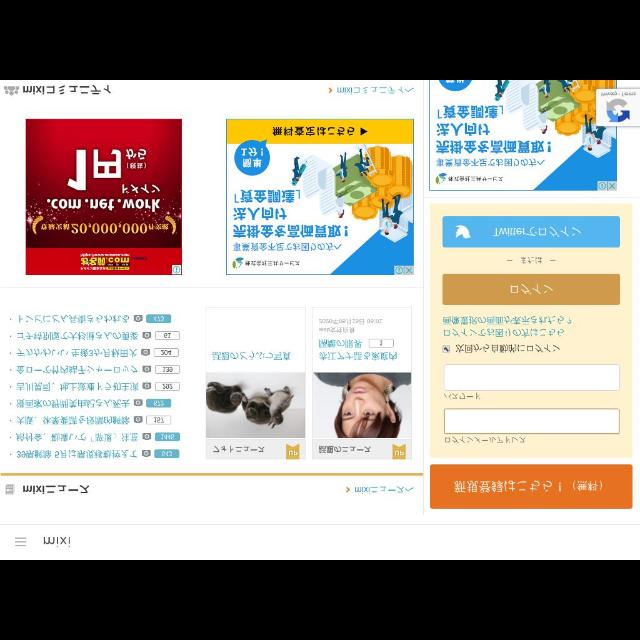checkbox: (443, 346, 449, 352)
icon: (454, 226, 471, 238), (15, 536, 28, 548), (4, 86, 20, 95), (5, 482, 15, 496), (134, 415, 142, 425), (142, 449, 150, 457), (134, 400, 142, 408), (142, 381, 150, 389), (142, 365, 150, 373), (141, 348, 149, 356), (142, 332, 150, 340), (143, 434, 151, 441), (134, 316, 142, 322), (345, 488, 349, 494)
iframe: (228, 120, 414, 276), (27, 119, 181, 275), (430, 81, 616, 191)
image: (313, 372, 413, 440), (207, 373, 305, 437)
input: (444, 408, 620, 434), (444, 364, 620, 390)
text: (444, 312, 572, 336), (455, 478, 603, 494), (316, 336, 398, 362), (17, 326, 138, 339), (16, 447, 138, 459), (318, 314, 384, 336), (18, 414, 130, 426), (456, 341, 562, 353), (16, 381, 138, 391), (17, 432, 137, 442), (18, 348, 136, 358), (492, 225, 580, 238), (16, 314, 130, 324), (23, 84, 111, 96), (16, 398, 130, 407), (17, 366, 139, 374), (212, 351, 292, 363), (445, 435, 527, 445), (509, 280, 553, 296), (24, 484, 90, 494), (338, 86, 414, 94), (355, 485, 413, 495), (212, 444, 266, 454), (318, 444, 370, 454), (443, 391, 481, 401), (45, 534, 71, 548), (521, 256, 541, 264), (160, 433, 173, 441), (161, 450, 173, 458), (162, 382, 174, 390), (160, 349, 172, 356), (163, 366, 173, 374), (153, 315, 165, 321), (154, 399, 164, 406), (153, 418, 163, 424), (163, 332, 170, 338)
textbutton: (430, 466, 632, 508), (443, 274, 619, 304), (443, 218, 619, 248)
